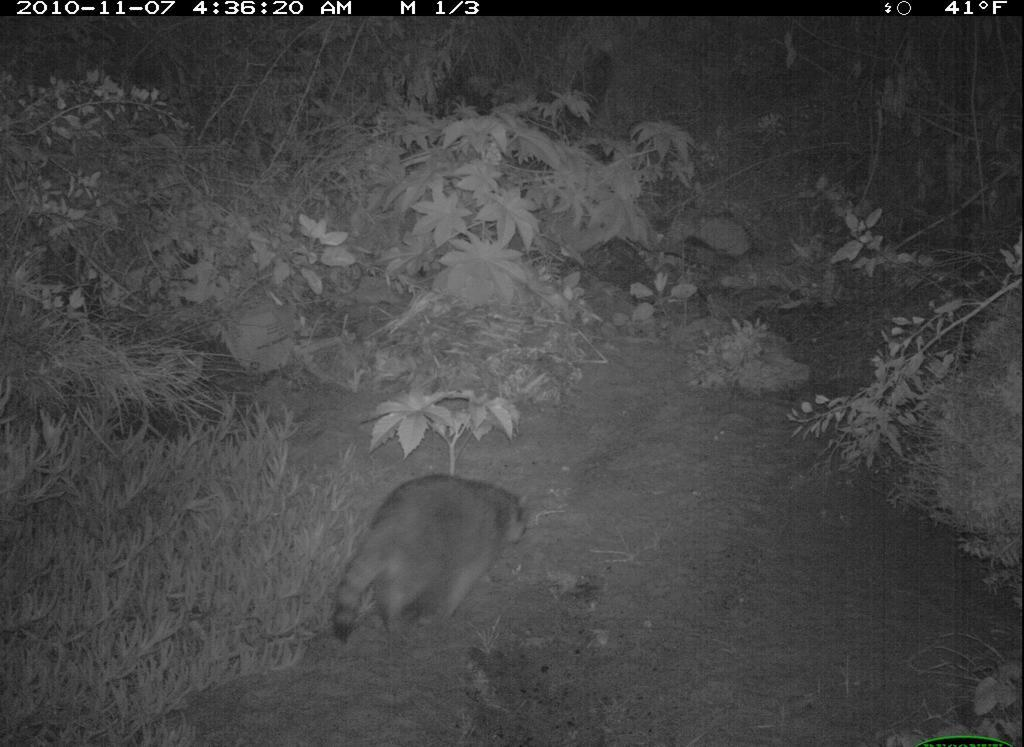raccoon: (319, 463, 556, 657)
